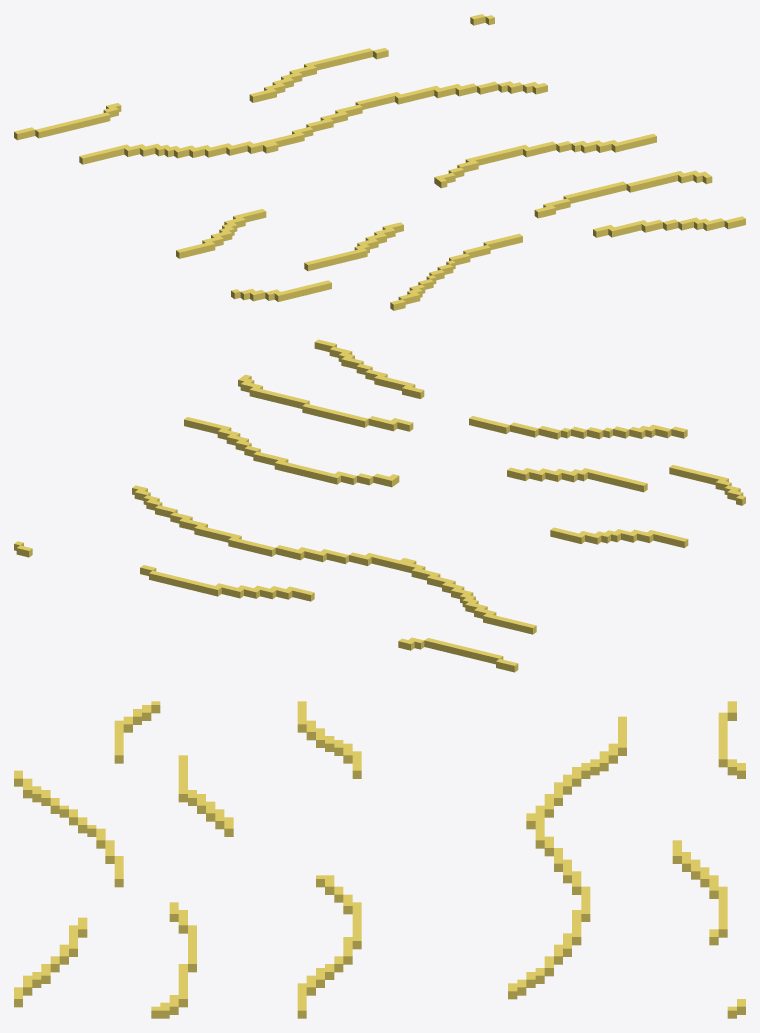
The model's file is beach_1_overtile.glb.
The picture shows the model from 3 angles, top to bottom: view 1: azimuth 30°, elevation 25°; view 2: azimuth 150°, elevation 25°; view 3: azimuth 270°, elevation 25°; orthographic projection. The views are drawn at different scales.
Visible parts, largest first — view 1: beach_1_overtile; view 2: beach_1_overtile; view 3: beach_1_overtile.
Boxes of the visible parts, bbox=[...] form: beach_1_overtile: bbox=[14, 14, 745, 310]; beach_1_overtile: bbox=[14, 339, 745, 672]; beach_1_overtile: bbox=[14, 701, 745, 1018].
Size of the model in its own units: 8 by 0.1 by 8.
Materials: 1 (1 with a texture image).
